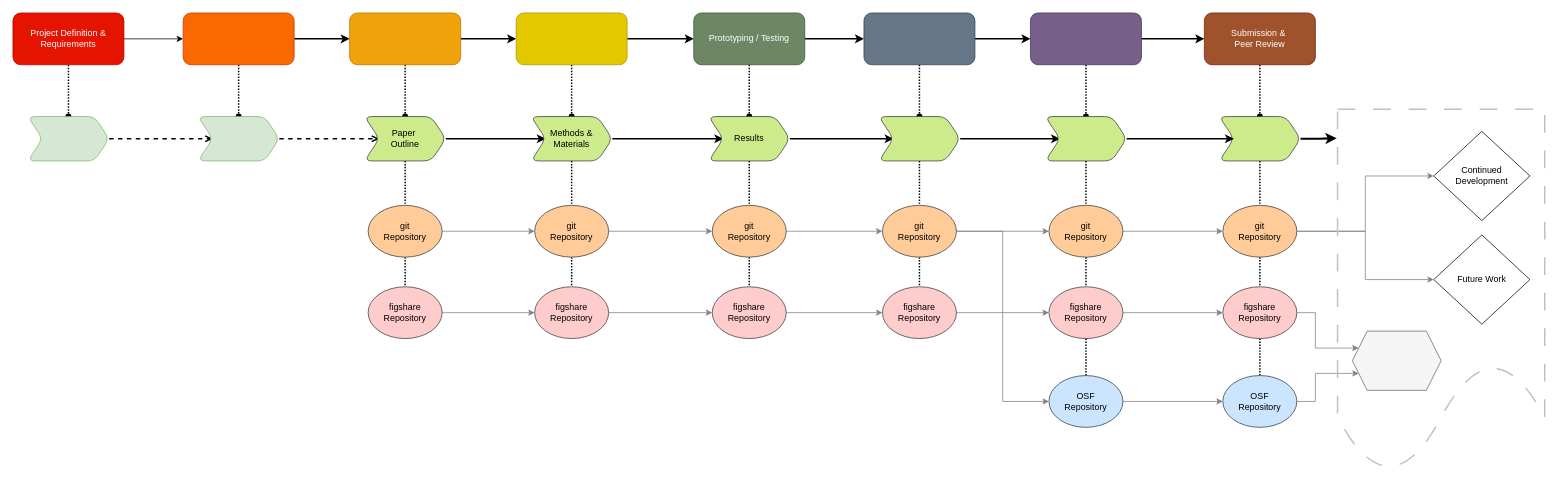
Image size: 1558x485. Some labels were removed from this diagram. The centre of each missing label's shape, as x and y in pixels:
"Analysis/ Interpretation" belongs at point 919,38.
"Appropedia Literature Review" belongs at point 238,138.
"Background Research" belongs at point 238,38.
"Conceptual Design" belongs at point 405,38.
"Detailed Design" belongs at point 571,38.
"Discussion & Conclusion" belongs at point 919,138.
"Distribute on Sharing Sites" belongs at point 1396,360.
"Final Paper" belongs at point 1259,138.
"Paper Draft" belongs at point 1086,138.
"Plain text" belongs at point 68,138.
"Revision & Editing" belongs at point 1085,38.
